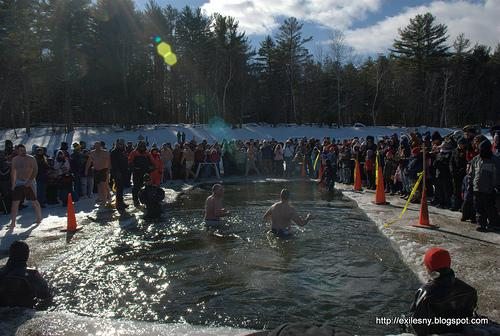swimmer: (261, 188, 309, 233), (195, 183, 222, 224)
